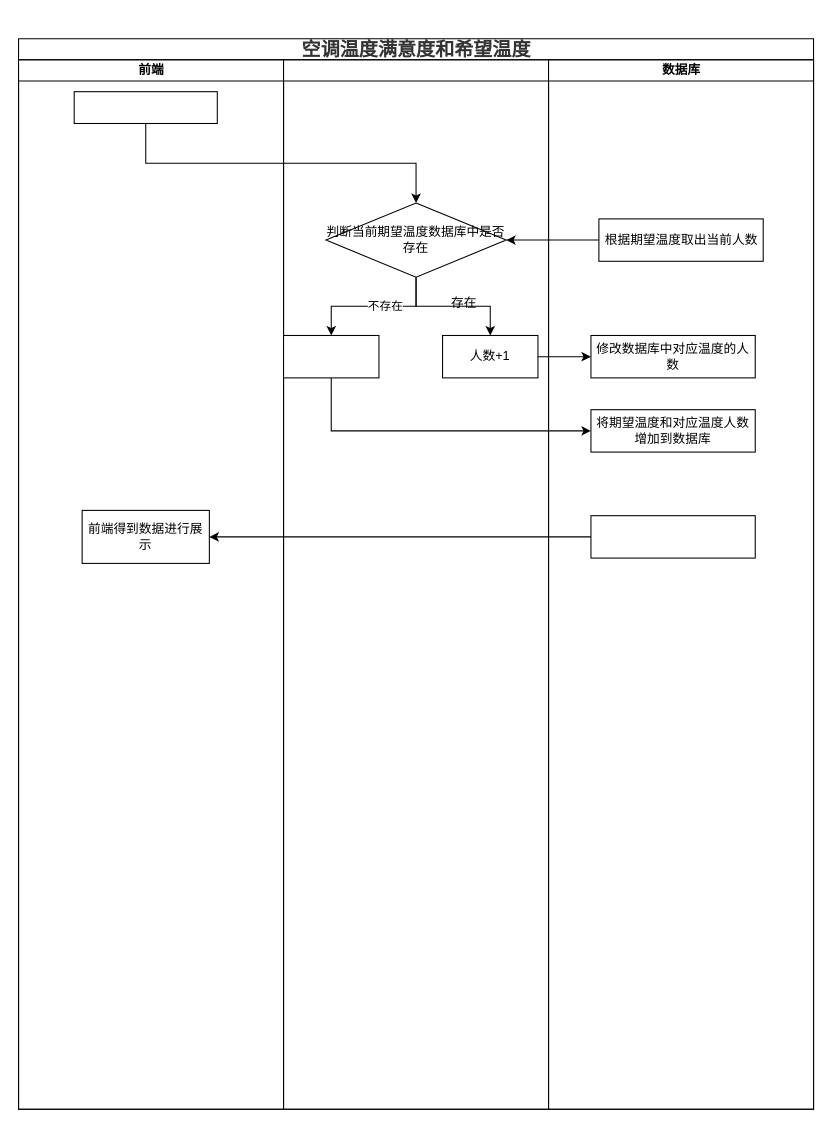
Image size: 832x1128. Some labels were removed from this diagram. Here are the shapes that lost their labels. From the top down, the box of each, then its label:
(73, 91, 217, 123): 接收用户数据
(282, 334, 379, 378): 将期望温度和人数
(590, 515, 755, 558): 获取今日温度和期望温度
(282, 59, 549, 1109): 后端
